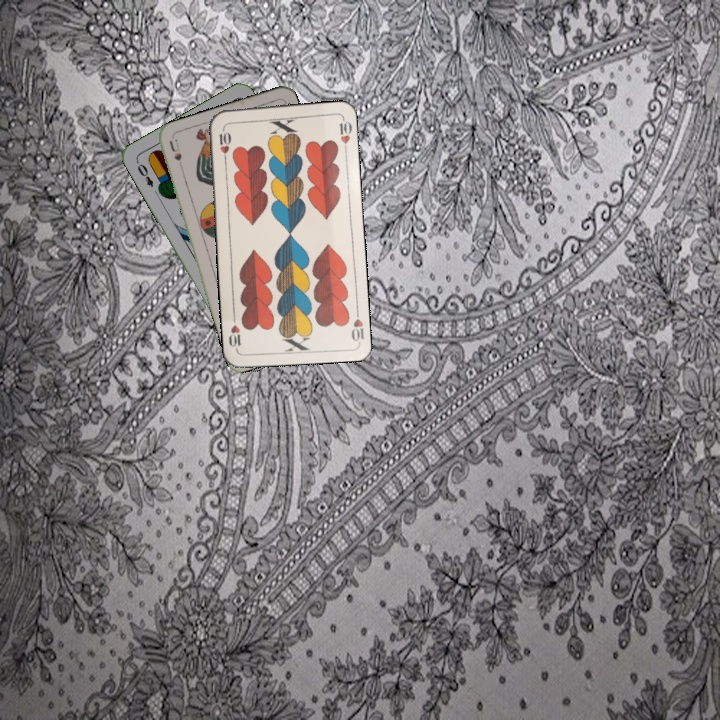EO: (132, 157, 156, 190)
H10: (347, 304, 366, 344), (215, 123, 233, 164)
SU: (165, 136, 187, 176)
